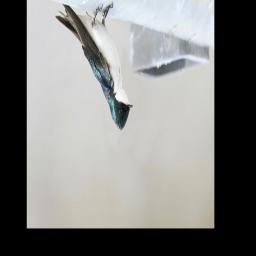Swallow: (54, 0, 134, 133)
